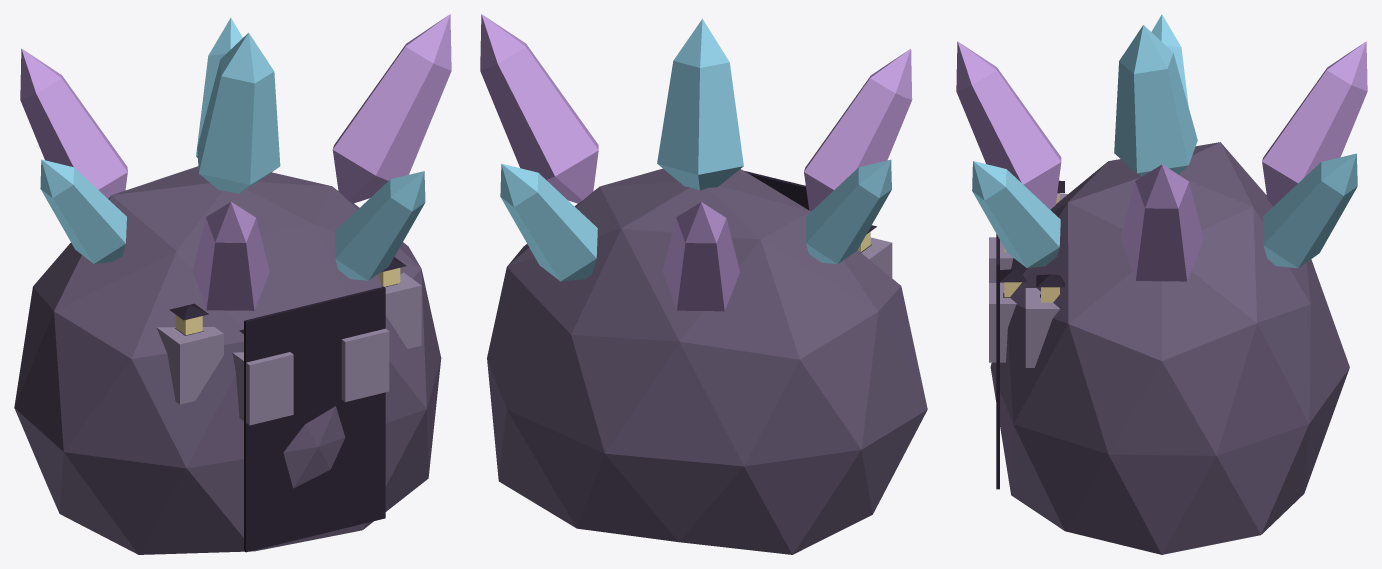
Rendered from cave-g2.glb.
3 renders of one model, left to right at view 1: azimuth 30°, elevation 25°; view 2: azimuth 150°, elevation 25°; view 3: azimuth 270°, elevation 25°, orthographic. The views are drawn at different scales.
Visible parts, largest first — view 1: cave-g2; view 2: cave-g2; view 3: cave-g2.
Part boxes in pixels (x1,y1,x2,y2): cave-g2: [14, 14, 451, 554]; cave-g2: [480, 14, 927, 554]; cave-g2: [956, 14, 1367, 554].
Bounding box in the file's own units: 2.46 × 2.59 × 2.16.
